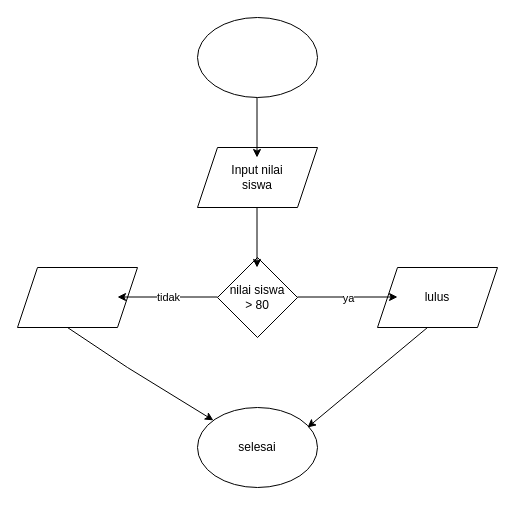
Image size: 515x505. Some labels were removed from this diagram. The box of each missing label's shape, as (x1, y1, x2, y2) in pixels:
start: (196, 16, 318, 98)
tidak lulus: (16, 266, 138, 328)
